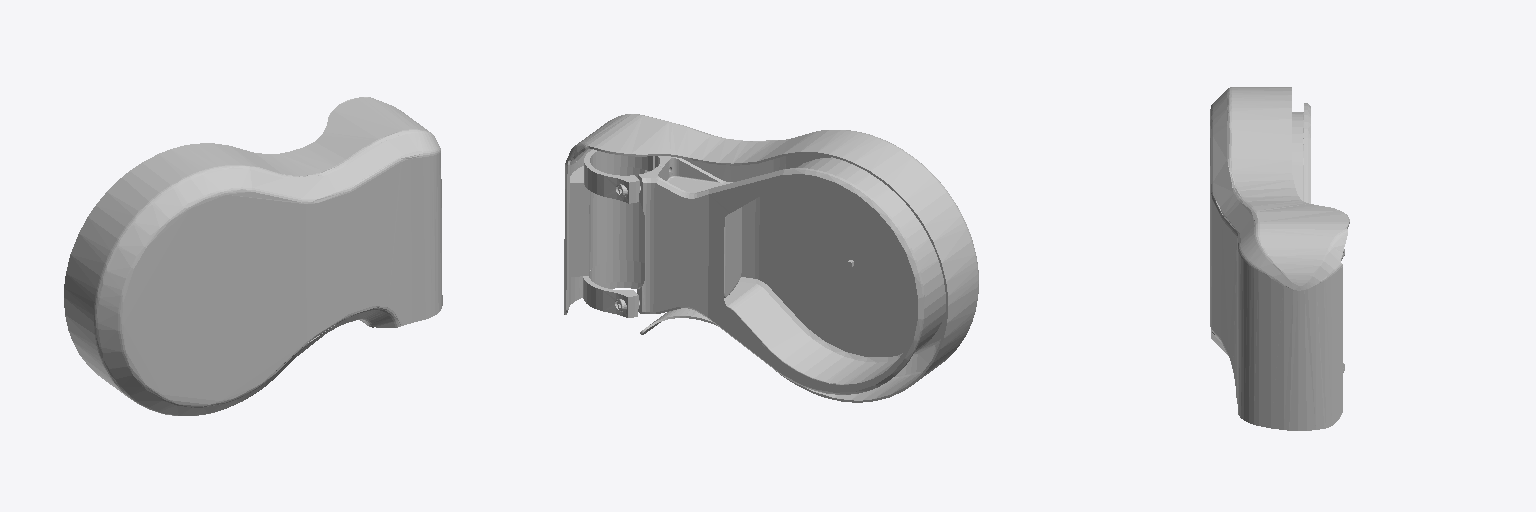
File: anymal_shank_r.obj
3 renders of one model, left to right at view 1: azimuth 30°, elevation 25°; view 2: azimuth 150°, elevation 25°; view 3: azimuth 270°, elevation 25°, orthographic.
Visible parts, largest first — view 1: _42196_00-ASM_ANYmal_shank_left_EDI_002_042196_00-ASM_ANYmal_sha; view 2: _42196_00-ASM_ANYmal_shank_left_EDI_001_042196_00-ASM_ANYmal_sha, _42196_00-ASM_ANYmal_shank_left_EDI_002_042196_00-ASM_ANYmal_sha, _42196_00-ASM_ANYmal_shank_left_EDI_005_042196_00-ASM_ANYmal_sha, _42196_00-ASM_ANYmal_shank_left_EDI_004_042196_00-ASM_ANYmal_sha; view 3: _42196_00-ASM_ANYmal_shank_left_EDI_002_042196_00-ASM_ANYmal_sha, _42196_00-ASM_ANYmal_shank_left_EDI_001_042196_00-ASM_ANYmal_sha.
Boxes of the visible parts, x1,y1,x2,y2 form: _42196_00-ASM_ANYmal_shank_left_EDI_002_042196_00-ASM_ANYmal_sha: [64, 97, 442, 415]; _42196_00-ASM_ANYmal_shank_left_EDI_001_042196_00-ASM_ANYmal_sha: [637, 156, 945, 394]; _42196_00-ASM_ANYmal_shank_left_EDI_002_042196_00-ASM_ANYmal_sha: [564, 114, 978, 402]; _42196_00-ASM_ANYmal_shank_left_EDI_005_042196_00-ASM_ANYmal_sha: [569, 166, 649, 276]; _42196_00-ASM_ANYmal_shank_left_EDI_004_042196_00-ASM_ANYmal_sha: [583, 149, 654, 317]; _42196_00-ASM_ANYmal_shank_left_EDI_002_042196_00-ASM_ANYmal_sha: [1210, 87, 1349, 430]; _42196_00-ASM_ANYmal_shank_left_EDI_001_042196_00-ASM_ANYmal_sha: [1292, 103, 1310, 203].
Size of the model in its own units: 183 by 115 by 59.27.